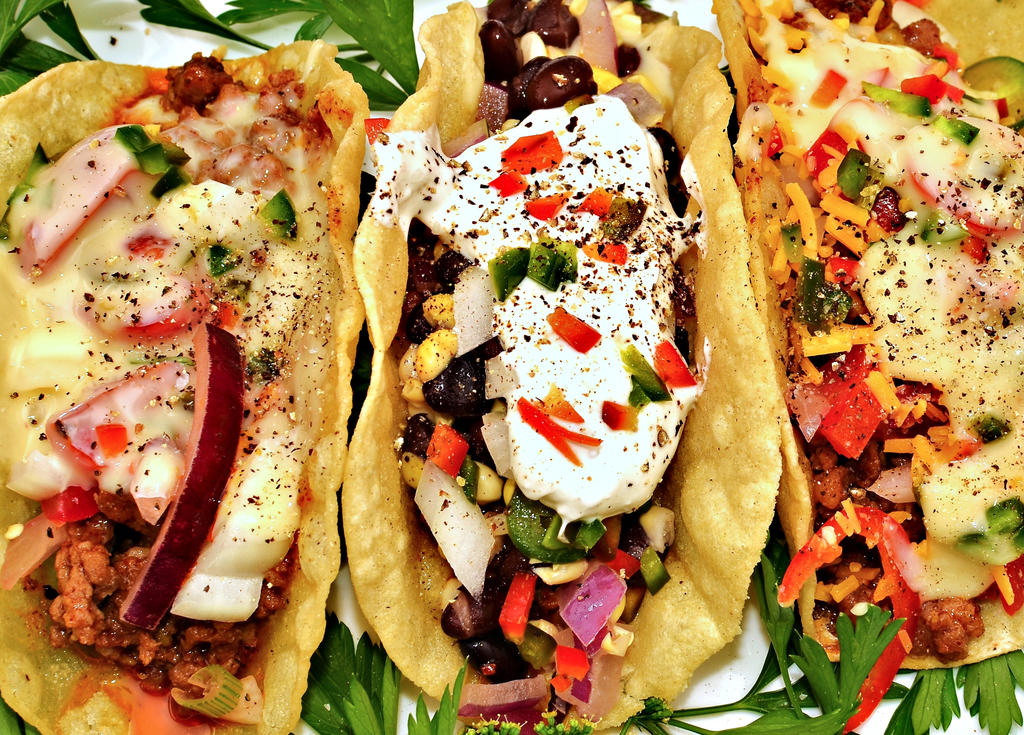taco: (349, 0, 787, 727), (0, 49, 375, 731), (708, 0, 1023, 670)
